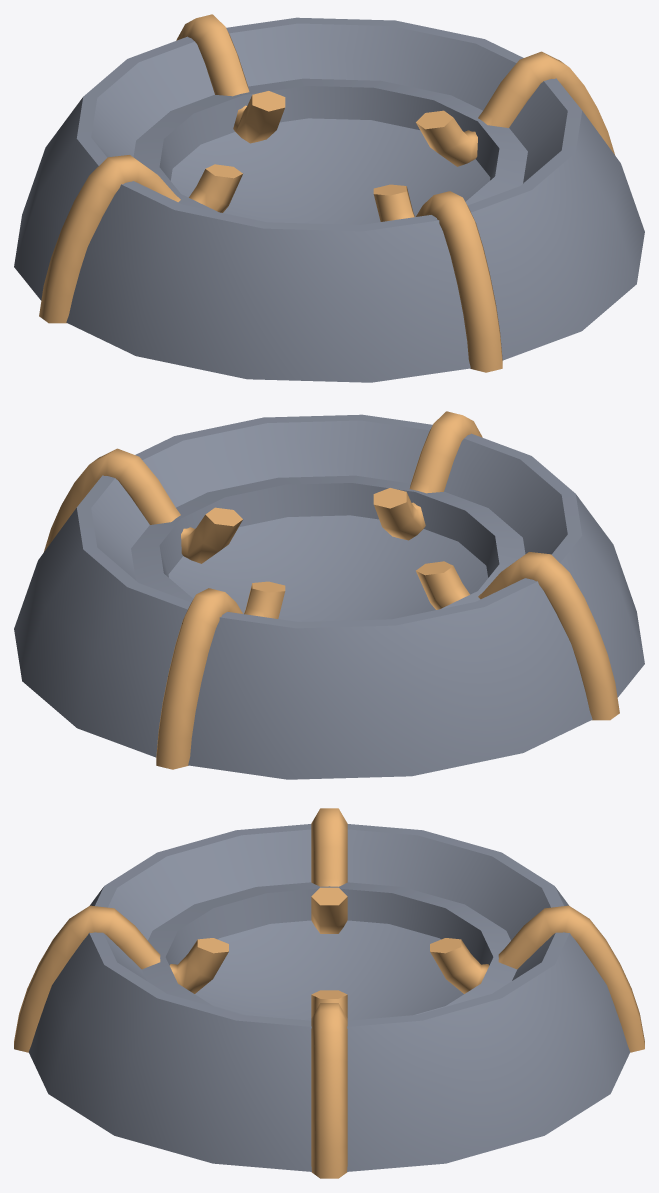
Rendered from Projector.fbx.
3 views of the same model, one above another, from view 1: azimuth 30°, elevation 25°; view 2: azimuth 150°, elevation 25°; view 3: azimuth 270°, elevation 25° (orthographic). The views are drawn at different scales.
Parts seen in each view (by area): view 1: Projector; view 2: Projector; view 3: Projector.
Boxes of the visible parts, bbox=[...] form: Projector: bbox=[14, 14, 644, 382]; Projector: bbox=[14, 411, 644, 779]; Projector: bbox=[14, 808, 644, 1178].
Size of the model in its own units: 34.39 by 8.17 by 34.39.
